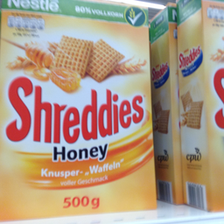cereal: (1, 2, 156, 219)
